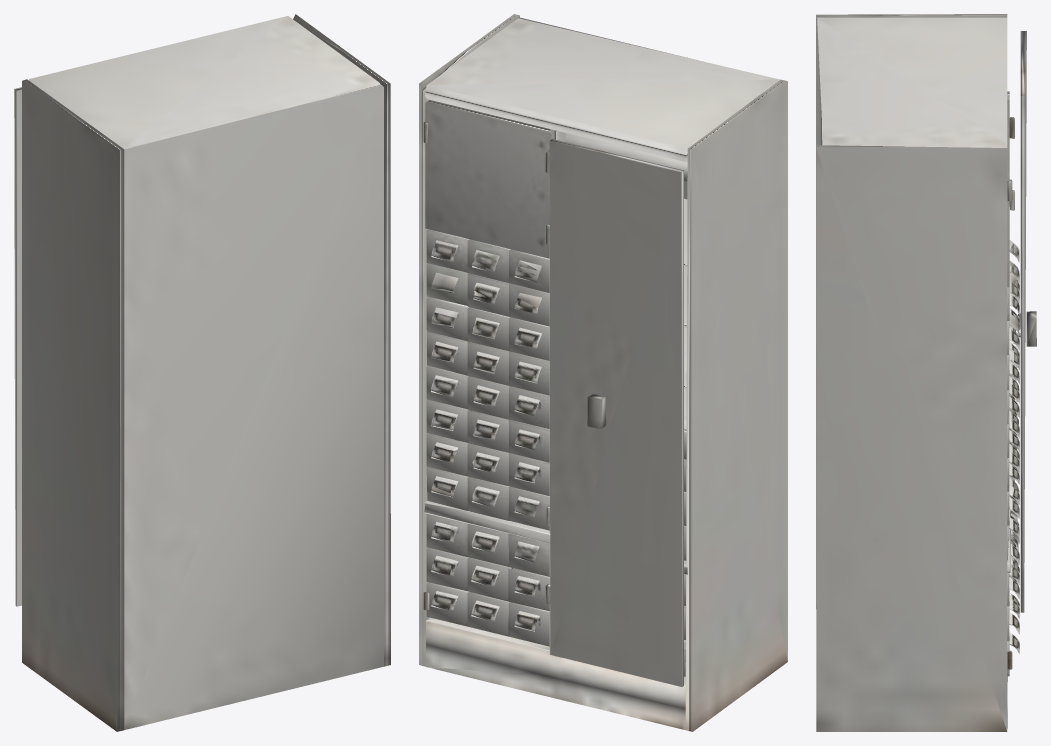
File: mall-medicine-drawer-cabinet.glb
3 renders of one model, left to right at view 1: azimuth 30°, elevation 25°; view 2: azimuth 150°, elevation 25°; view 3: azimuth 270°, elevation 25°, orthographic.
Parts seen in each view (by area): view 1: medicine-drawer-cabinet; view 2: medicine-drawer-cabinet; view 3: medicine-drawer-cabinet.
Part boxes in pixels (box(x1,y1,x2,y2)): medicine-drawer-cabinet: box(14, 14, 390, 731); medicine-drawer-cabinet: box(419, 14, 787, 731); medicine-drawer-cabinet: box(816, 14, 1036, 731).
Bounding box in the file's own units: 0.9358 × 1.9 × 0.6504.
Materials: 1 (1 with a texture image).
